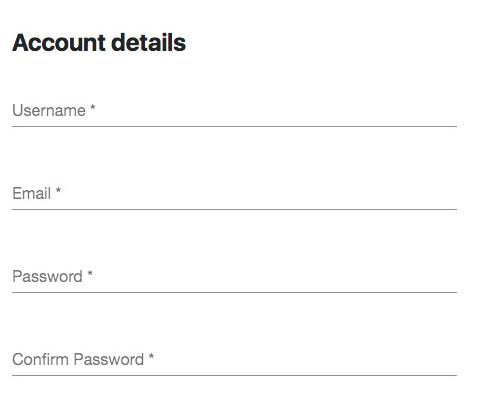field_line: (7, 82, 459, 130), (2, 175, 461, 215), (7, 259, 462, 297), (8, 347, 462, 380)
